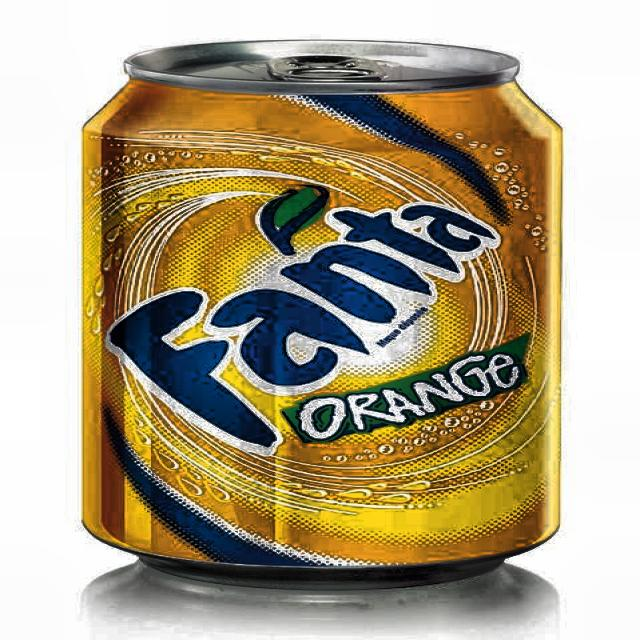Cans: (59, 29, 579, 616)
